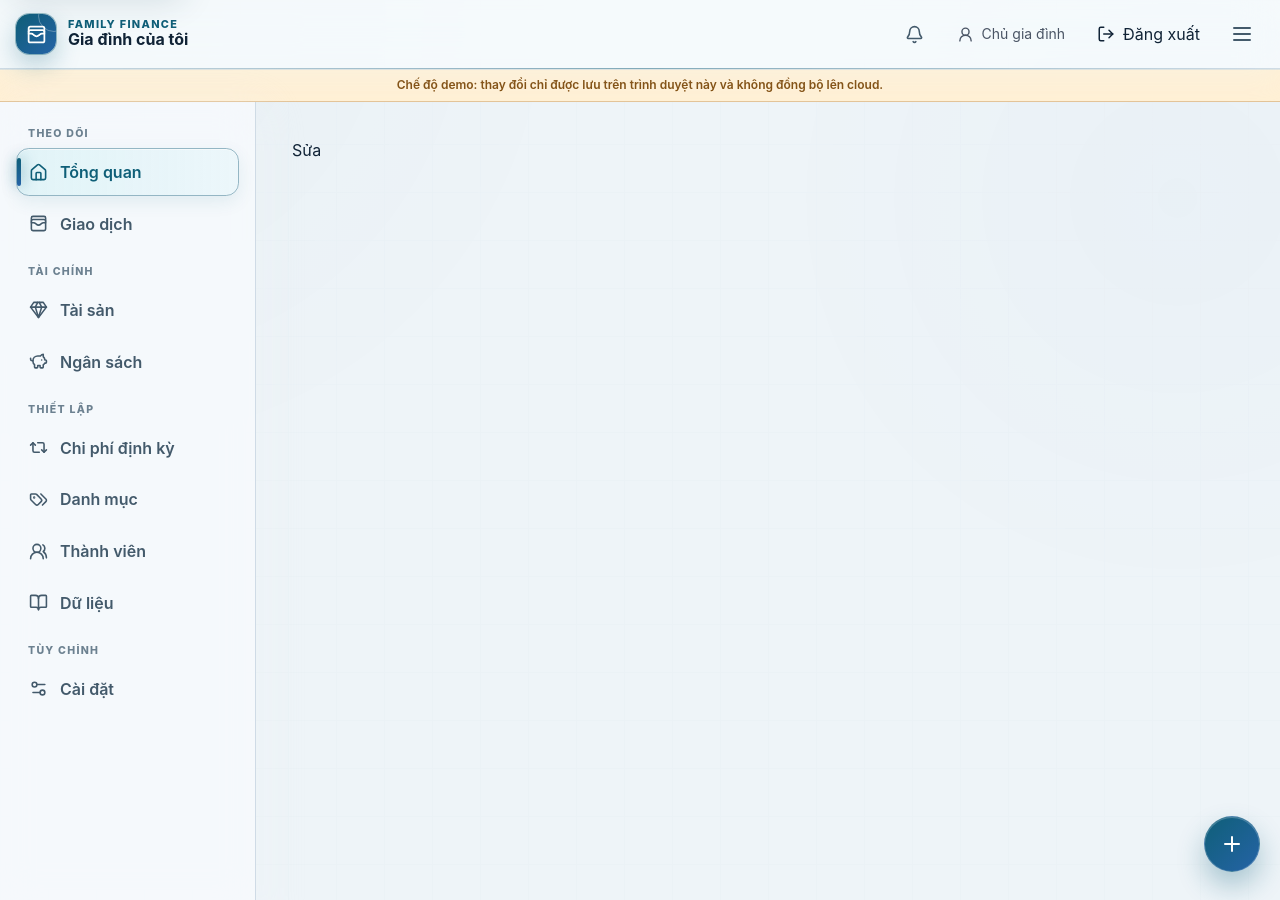
Layout mobile navigation › đưa viewport về đầu khi chuyển sang form chỉnh sửa giao dịch
This screenshot has width=1280, height=900.
What coordinates should you click on to do the following:
click the link "Sửa"
I would click on:
 (307, 150)
Its box is [292,140,321,160].
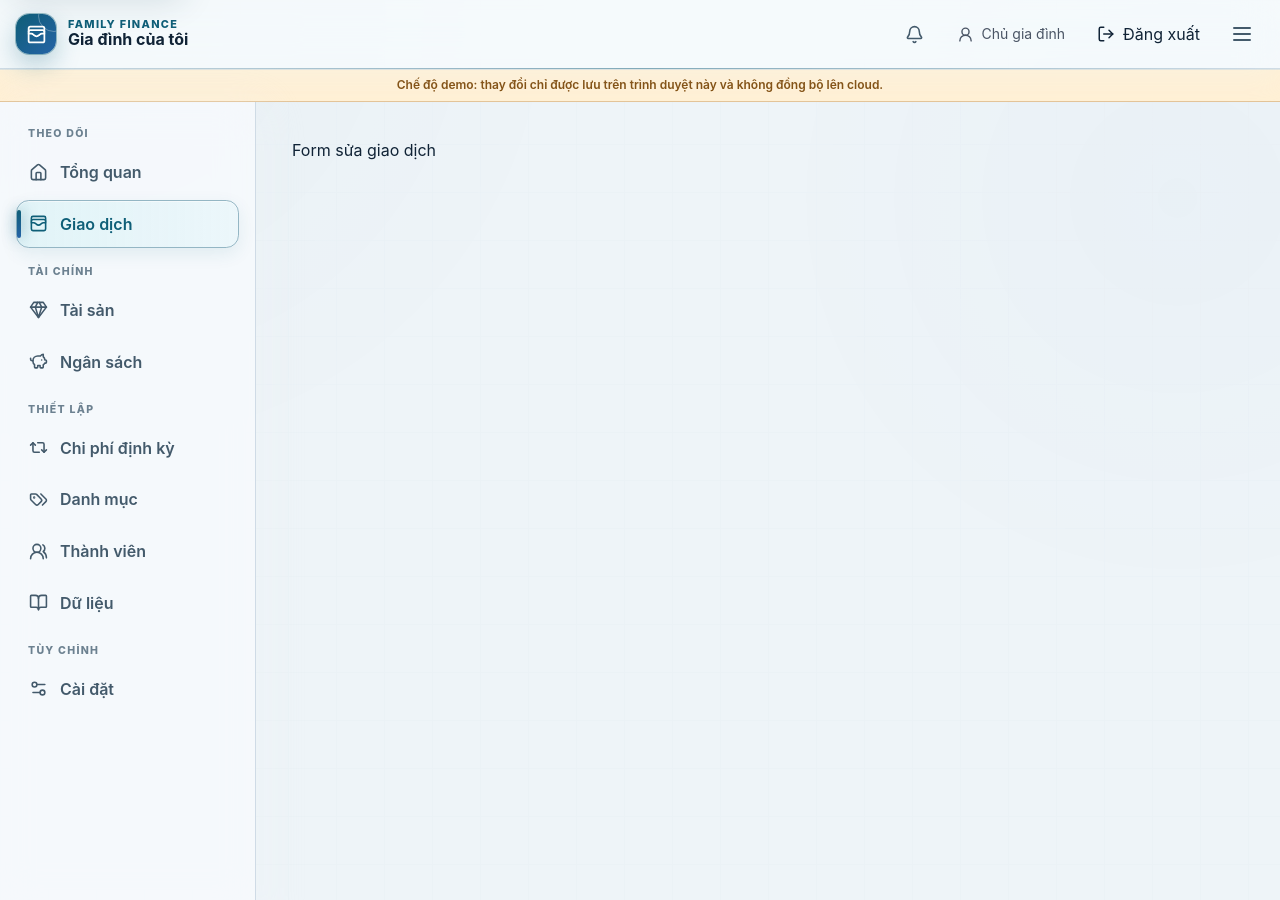
expect the text "Form sửa giao dịch" is shown: met, box [292,140,436,160]
